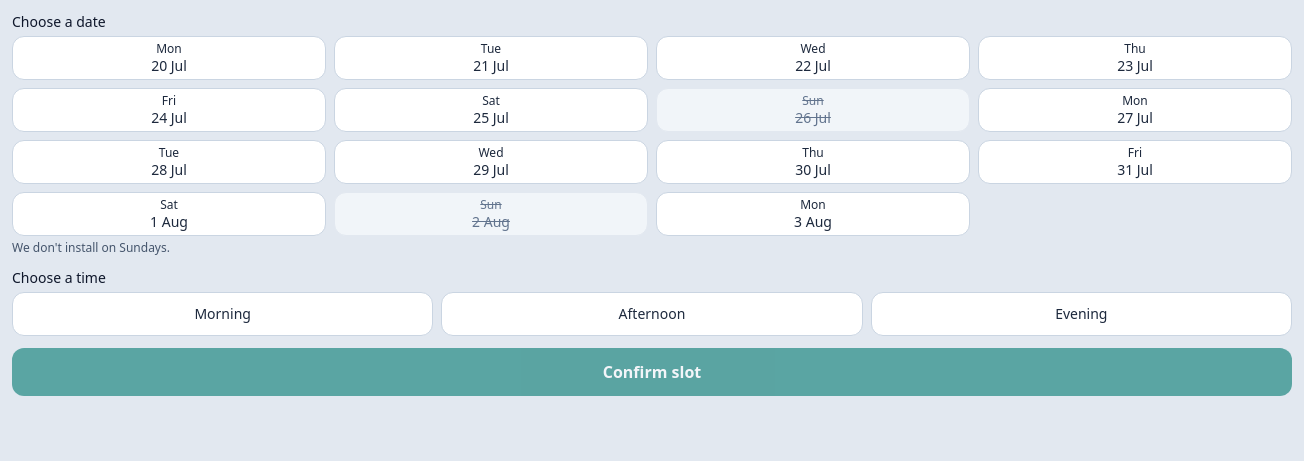
SlotPicker › explains a slot the server refuses and lets the owner pick again
Expected: the button with test id "date-2026-07-20" is shown, [12, 36, 326, 80]
Click the button with test id "date-2026-07-22" at x=813, y=58, box [656, 36, 970, 80]
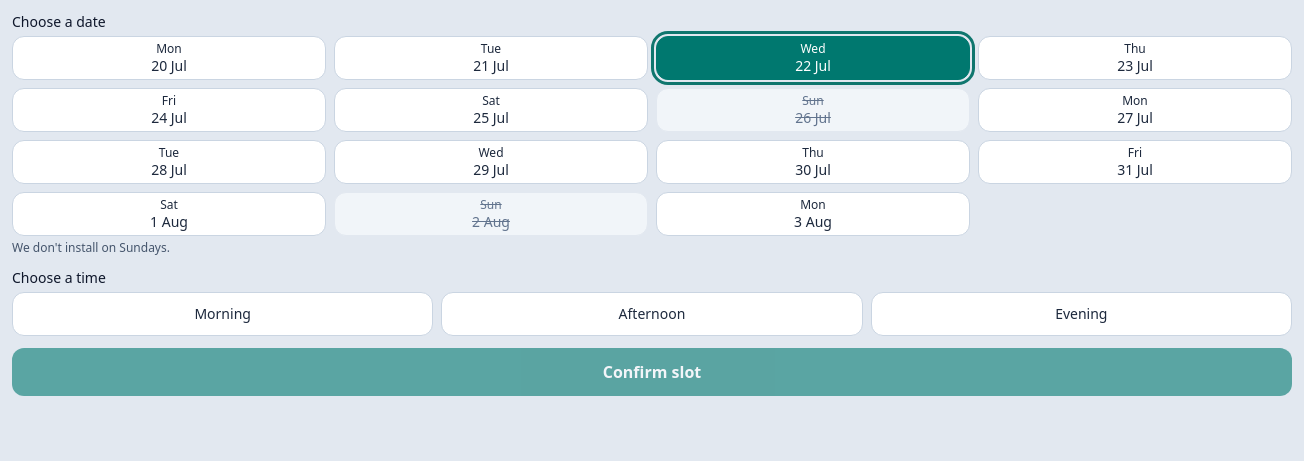
Click the button "Morning" at x=223, y=314, box [12, 292, 433, 336]
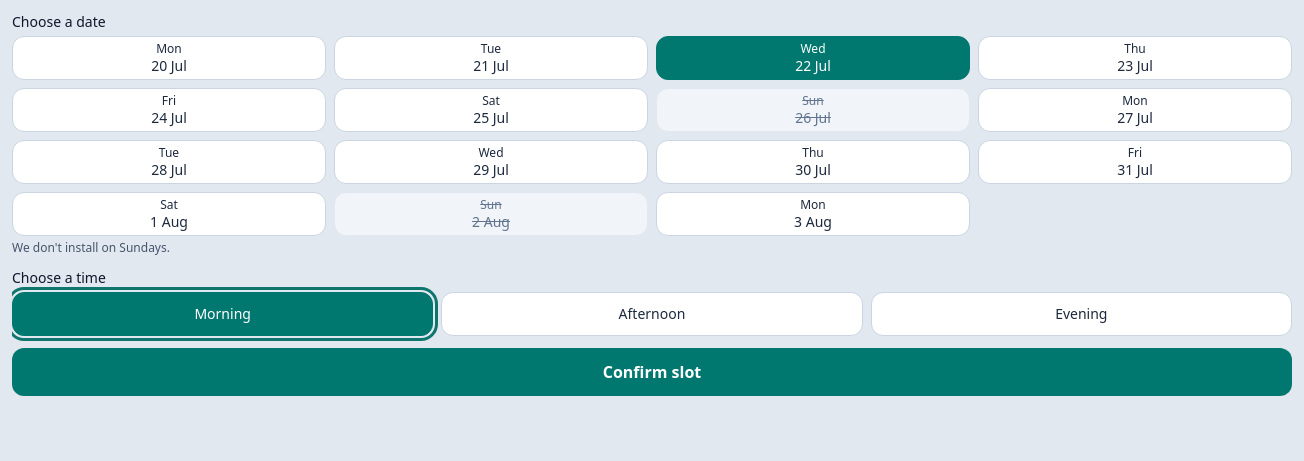
Click the button "Confirm slot" at x=652, y=372, box [12, 348, 1292, 396]
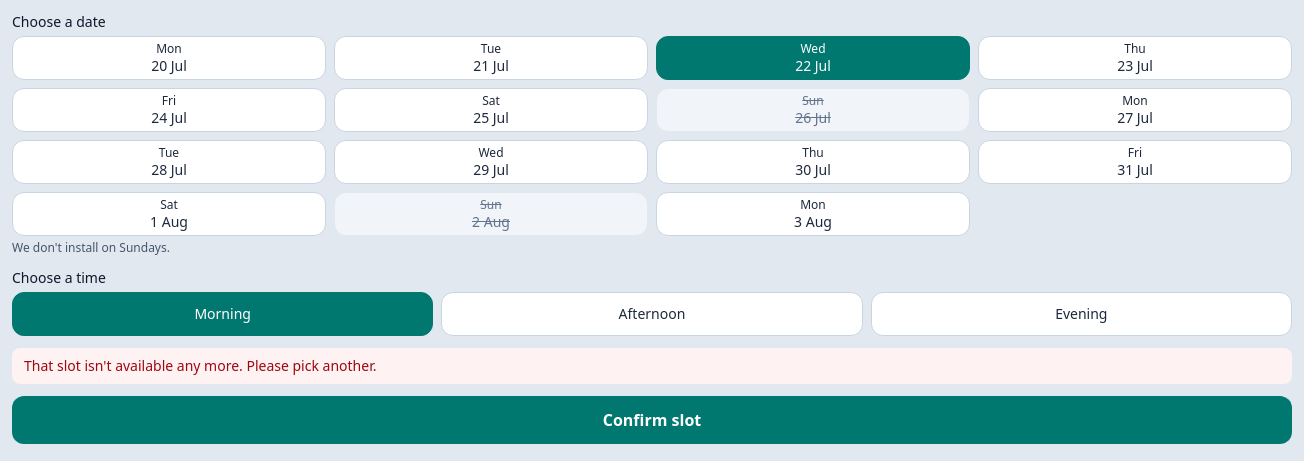
Now the button "Confirm slot" is enabled, box [12, 396, 1292, 444]
Now the message shows "isn't available any more", box [24, 356, 376, 375]
